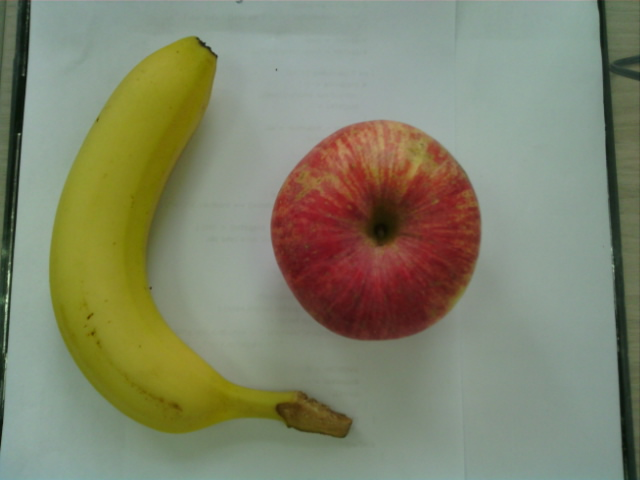normal_apple: (268, 121, 484, 343)
normal_banana: (48, 36, 349, 438)
